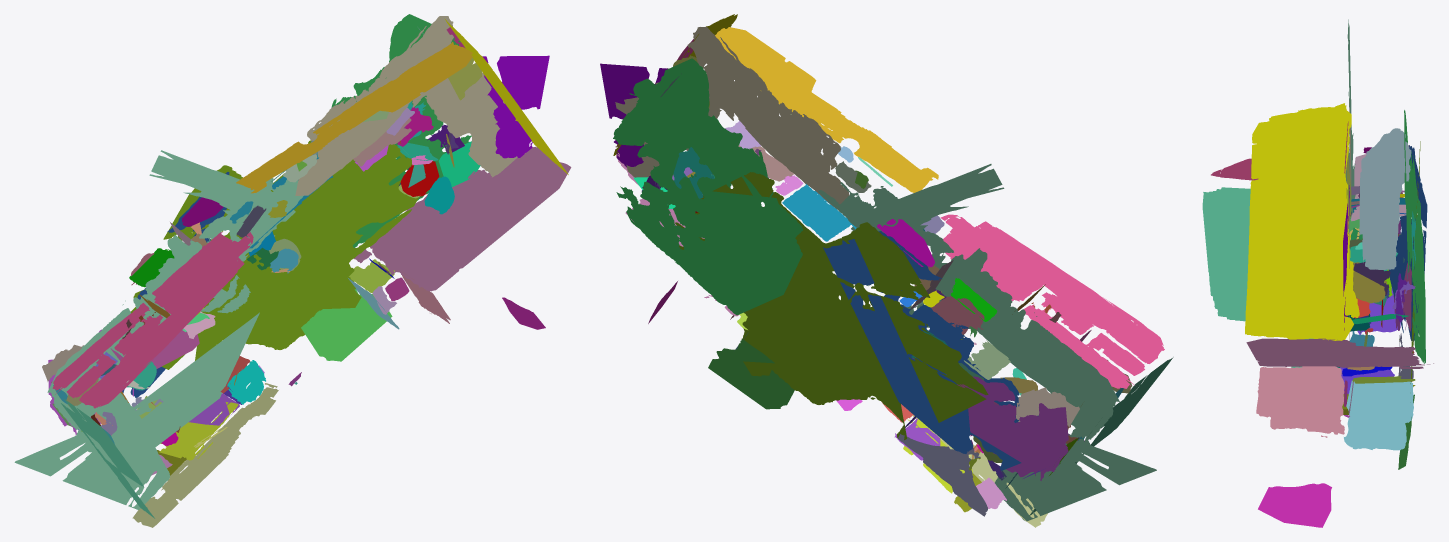
Rendered from neuralplane_scene0131.glb.
3 views of the same model, side by side, from view 1: azimuth 30°, elevation 25°; view 2: azimuth 150°, elevation 25°; view 3: azimuth 270°, elevation 25° (orthographic). The views are drawn at different scales.
Size of the model in its own units: 8.41 by 6.25 by 2.55.
